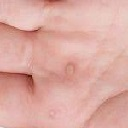Wart: (63, 59, 76, 82)
